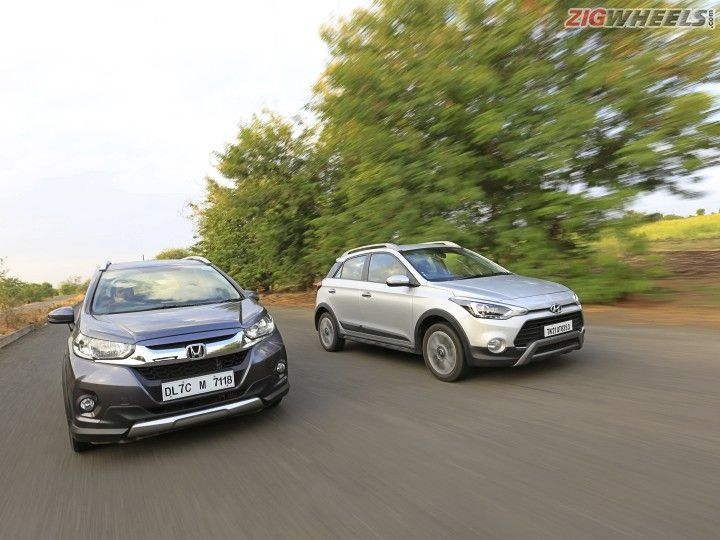car: (48, 248, 295, 459), (311, 236, 596, 391)
